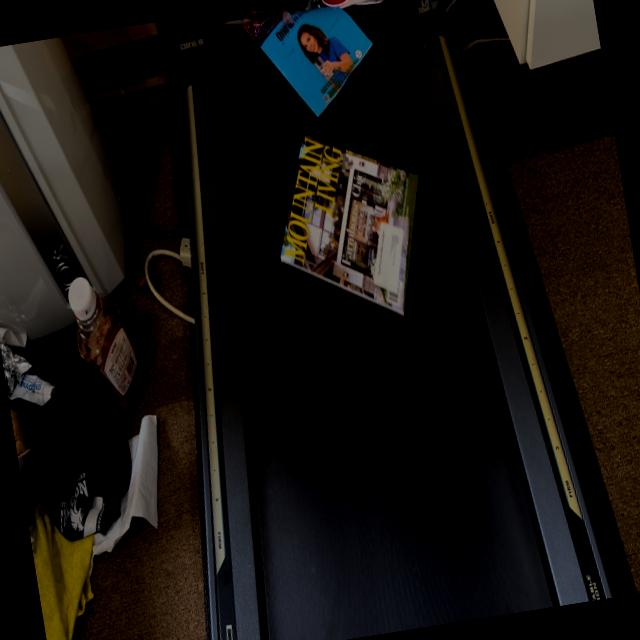Recycle: (262, 119, 441, 332), (241, 0, 383, 126), (321, 0, 352, 8)
